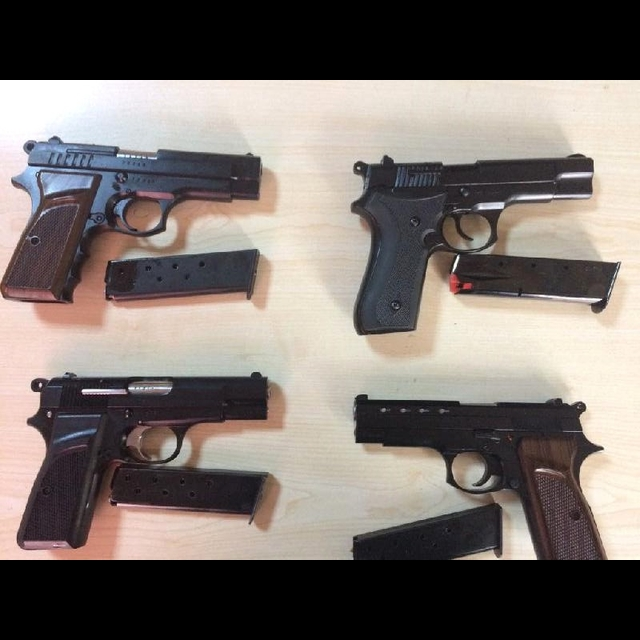SILAH: (334, 133, 624, 337), (306, 372, 617, 557), (2, 122, 286, 323), (9, 366, 283, 552)
